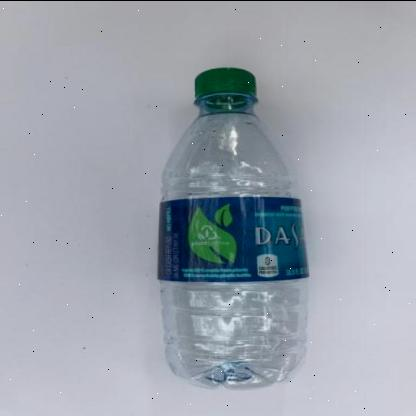Plastic Bottle: (158, 66, 308, 388)
